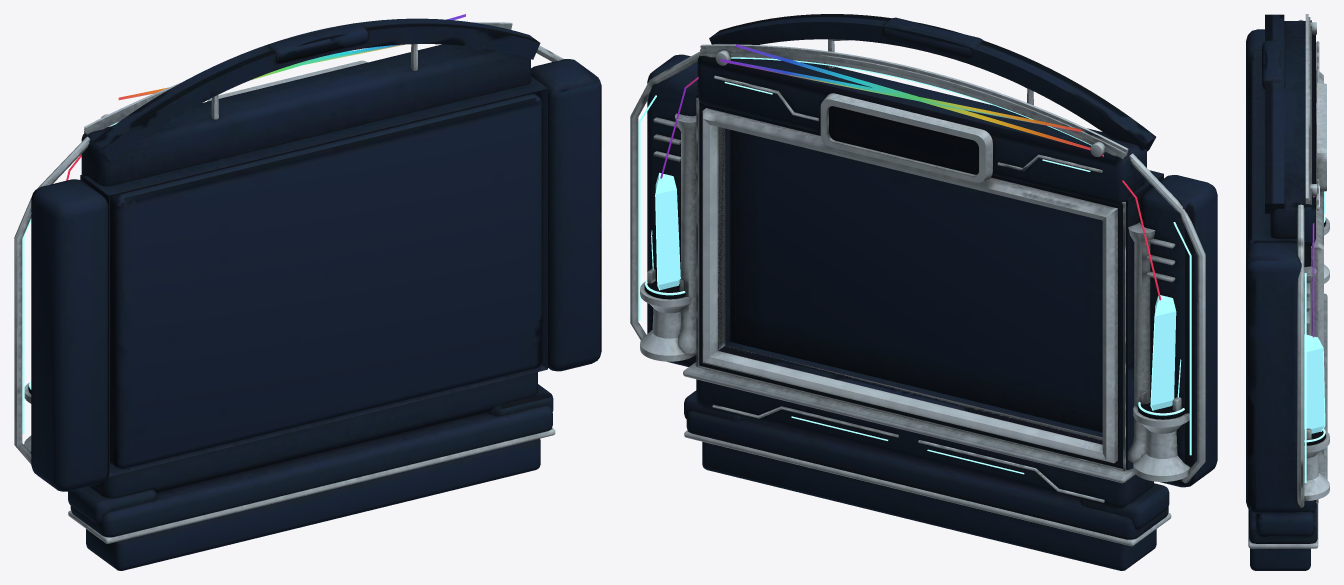
3 views of the same model, side by side, from view 1: azimuth 30°, elevation 25°; view 2: azimuth 150°, elevation 25°; view 3: azimuth 270°, elevation 25° (orthographic). The views are drawn at different scales.
Parts seen in each view (by area): view 1: Optical_ceramic, Laboratory_platinum, Spectrum_glow; view 2: Optical_ceramic, Laboratory_platinum, Uniform_display_inset, Optical_prism_glow, Spectrum_glow, Instrument_cyan_glow; view 3: Optical_ceramic, Laboratory_platinum, Optical_prism_glow, Instrument_cyan_glow, Spectrum_glow, Uniform_display_inset.
Part boxes in pixels (box(x1,y1,x2,y2)): Optical_ceramic: box(31, 18, 601, 570); Laboratory_platinum: box(14, 22, 563, 543); Spectrum_glow: box(66, 14, 465, 180); Optical_ceramic: box(647, 14, 1217, 570); Laboratory_platinum: box(630, 39, 1205, 546); Uniform_display_inset: box(644, 106, 1185, 419); Optical_prism_glow: box(652, 172, 1180, 410); Spectrum_glow: box(660, 44, 1161, 300); Instrument_cyan_glow: box(638, 57, 1191, 474); Optical_ceramic: box(1246, 14, 1317, 570); Laboratory_platinum: box(1248, 14, 1329, 548); Optical_prism_glow: box(1304, 195, 1324, 433); Instrument_cyan_glow: box(1304, 48, 1325, 483); Spectrum_glow: box(1312, 196, 1314, 337); Uniform_display_inset: box(1304, 220, 1325, 445).
Bounding box in the file's own units: 12.12 × 9.6 × 1.73.
6 materials, 4 textured.
